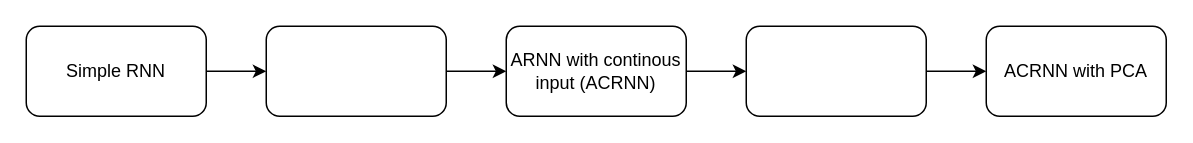
Image size: 1193x143. Some labels were removed from this diagram. The centre of each missing label's shape, as x and y in pixels:
"ACRNN with Autoencoder" belongs at [835,70].
"Autoregressive RNN (ARNN)" belongs at [355,70].
